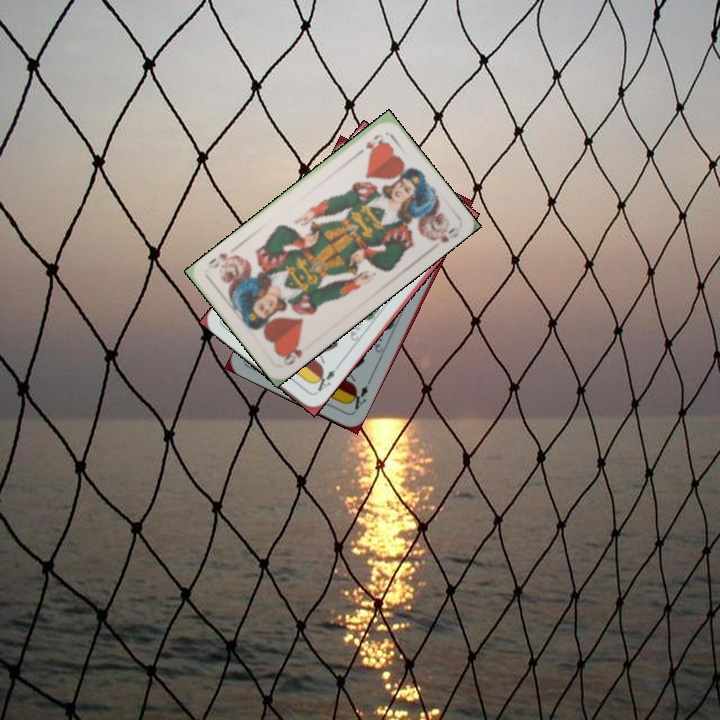EA: (310, 362, 341, 397), (346, 377, 373, 415)
HO: (352, 130, 387, 158), (278, 340, 305, 368)
